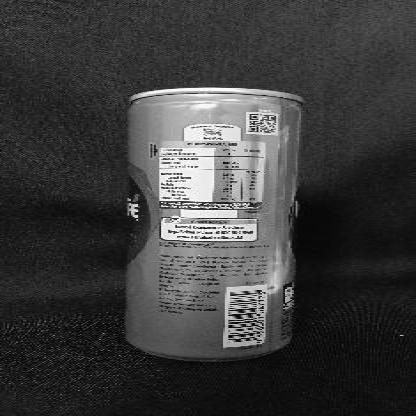alumunium_can: (124, 87, 304, 361)
